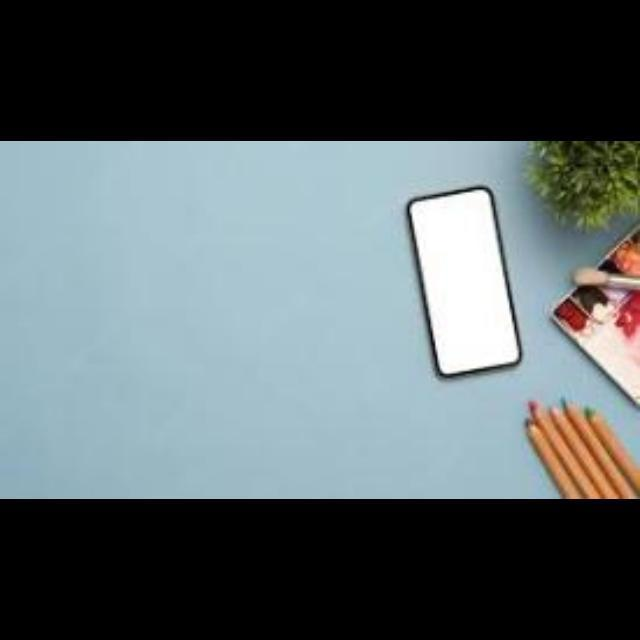phone: (405, 183, 523, 381)
